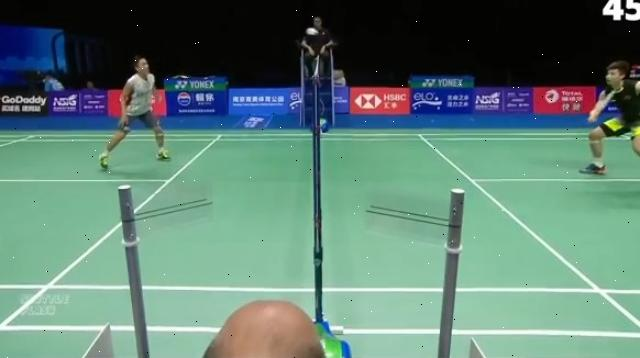Shuttlecock: (304, 24, 320, 40)
